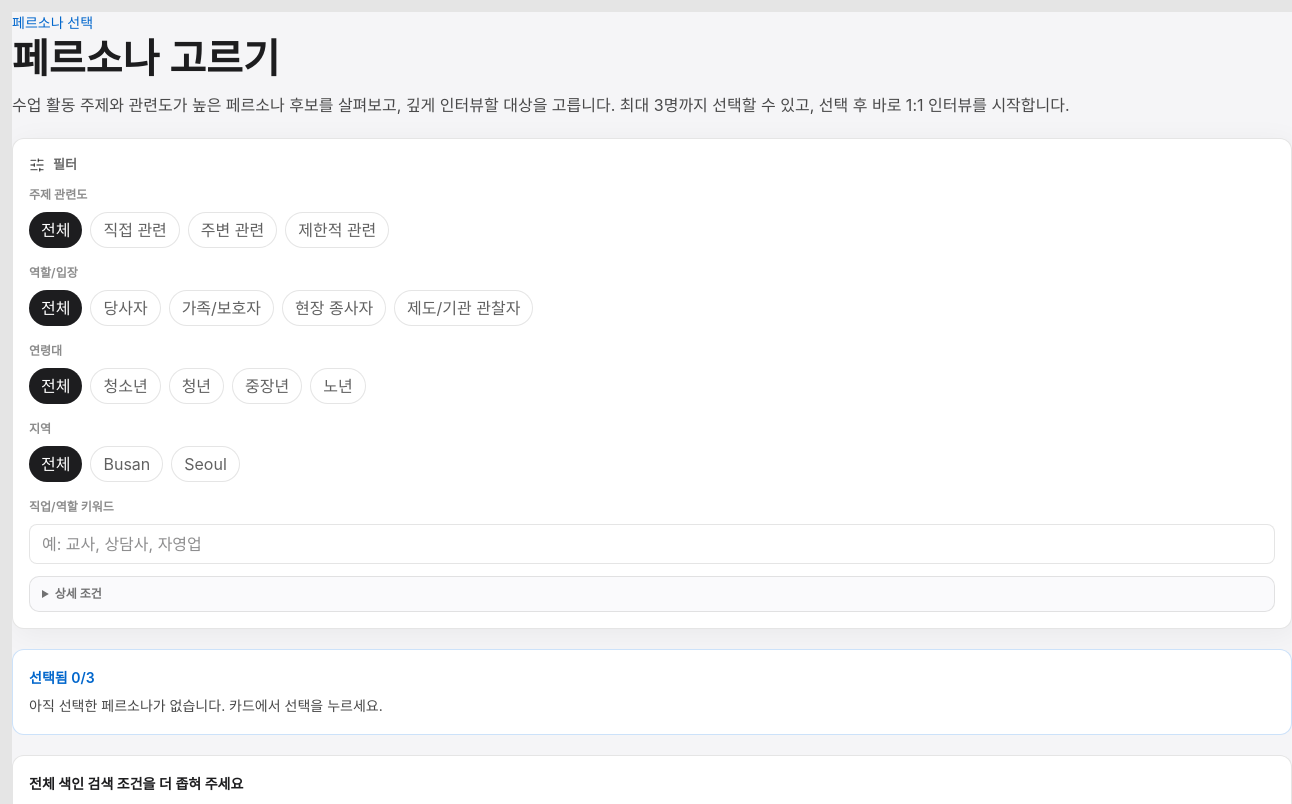
Test: keeps demographic filters in a detailed filter section
Expected: the text "상세 조건" is shown, [29,576,1275,612]
Click the heading "상세 조건": (78, 594) [55,586,102,601]
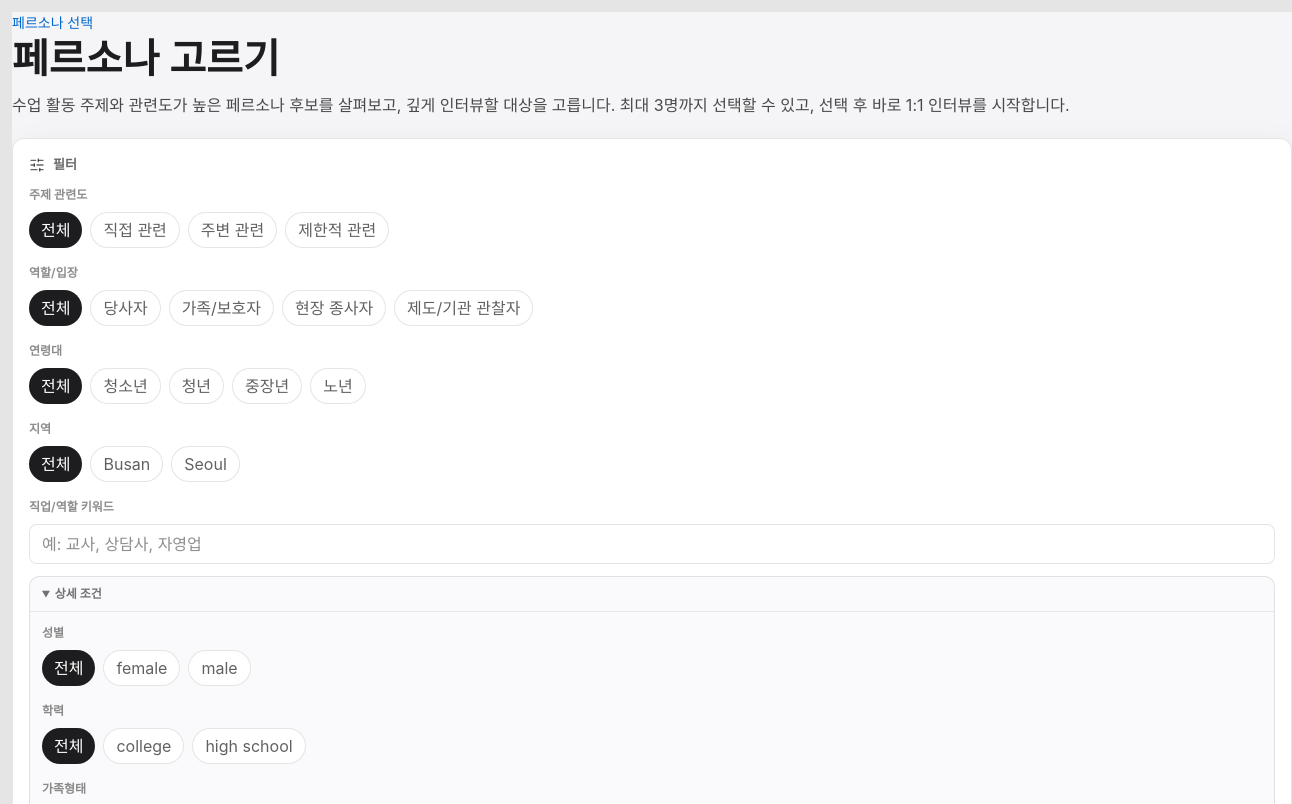
Expected: the button "female" is shown, [104,650,180,686]
Expected: the button "college" is shown, [104,728,184,764]
